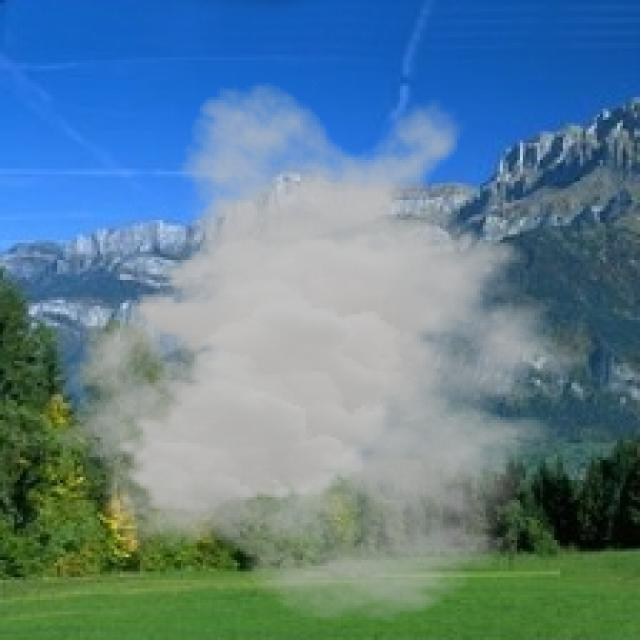Smoke: (55, 80, 614, 623)
